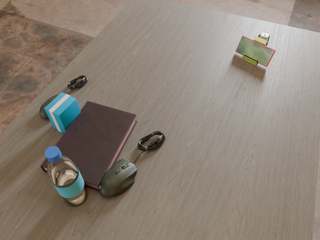book: (41, 101, 137, 191)
bottle: (45, 146, 88, 206)
box: (45, 93, 81, 133)
mouse: (99, 159, 137, 197), (40, 95, 58, 119)
phone: (236, 36, 275, 67)
toy_car: (258, 32, 270, 45)
